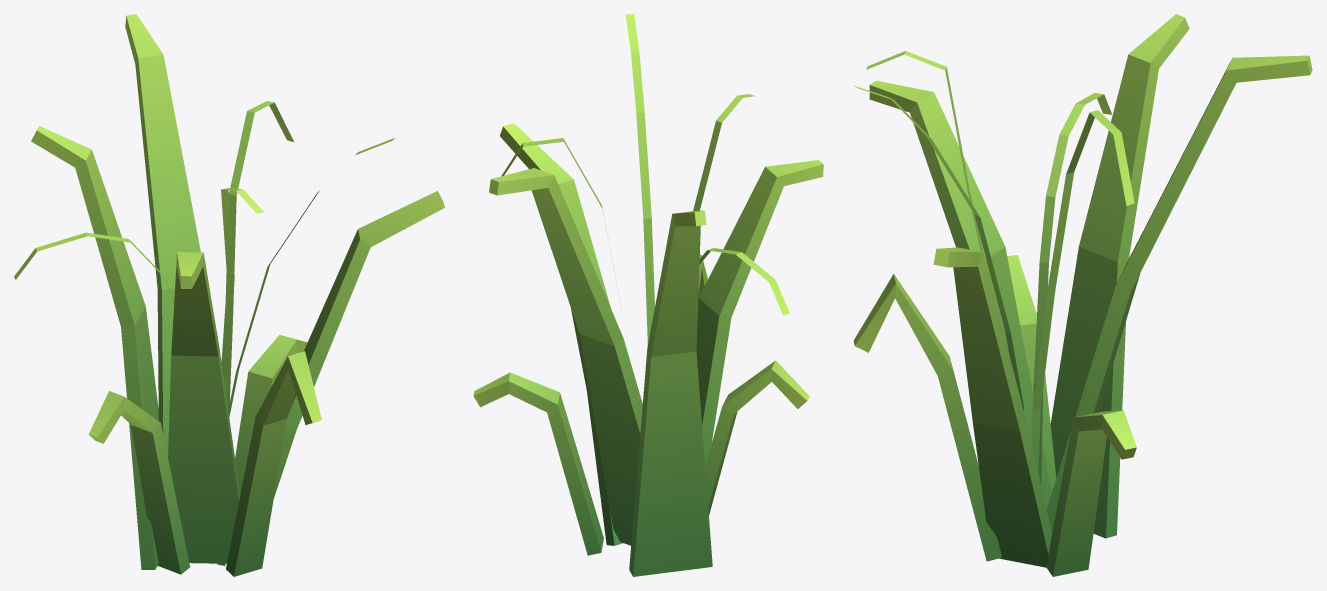
The model's file is GreenGrass2.fbx.
3 renders of one model, left to right at view 1: azimuth 30°, elevation 25°; view 2: azimuth 150°, elevation 25°; view 3: azimuth 270°, elevation 25°, orthographic. The views are drawn at different scales.
Parts seen in each view (by area): view 1: GreenGrass2; view 2: GreenGrass2; view 3: GreenGrass2.
Boxes of the visible parts, left/top/right/bottom form: GreenGrass2: left=14, top=14, right=444, bottom=576; GreenGrass2: left=473, top=14, right=823, bottom=576; GreenGrass2: left=853, top=14, right=1312, bottom=576.
Size of the model in its own units: 146 by 179 by 142.
